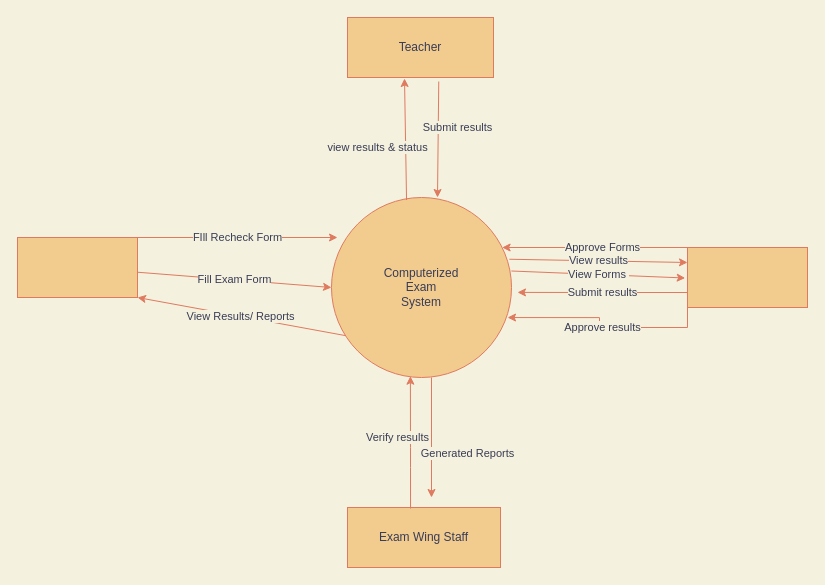
Image size: 825x585. Some labels were removed from this diagram. Each missing label, with the centre of its shape:
HOD: (747,277)
student: (77,267)
